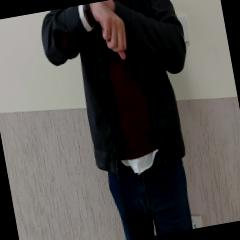not-gloved: (88, 0, 130, 64)
